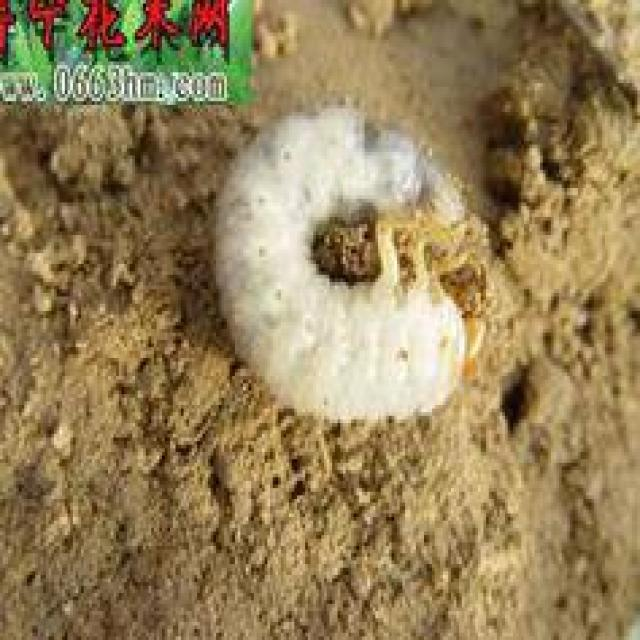Grub-Adult-: (203, 89, 495, 437)
